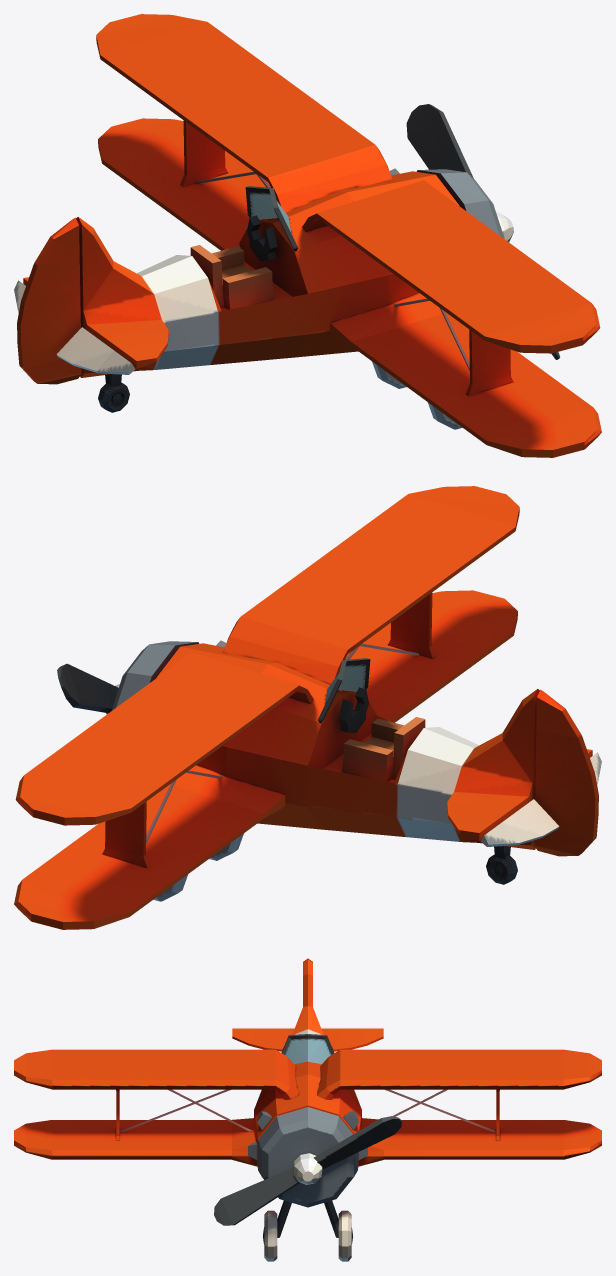
Rendered from biplane.fbx.
3 renders of one model, top to bottom at view 1: azimuth 30°, elevation 25°; view 2: azimuth 150°, elevation 25°; view 3: azimuth 270°, elevation 25°, orthographic. The views are drawn at different scales.
Parts seen in each view (by area): view 1: polySurface4, polySurface5; view 2: polySurface4, polySurface5; view 3: polySurface4, polySurface5.
Part boxes in pixels (x1=…): polySurface4: x1=14, y1=14, x2=601, y2=457; polySurface5: x1=406, y1=104, x2=559, y2=359; polySurface4: x1=14, y1=486, x2=601, y2=929; polySurface5: x1=57, y1=663, x2=119, y2=714; polySurface4: x1=14, y1=958, x2=601, y2=1261; polySurface5: x1=214, y1=1116, x2=401, y2=1225.
Size of the model in its own units: 2.42 by 1.3 by 3.78.
